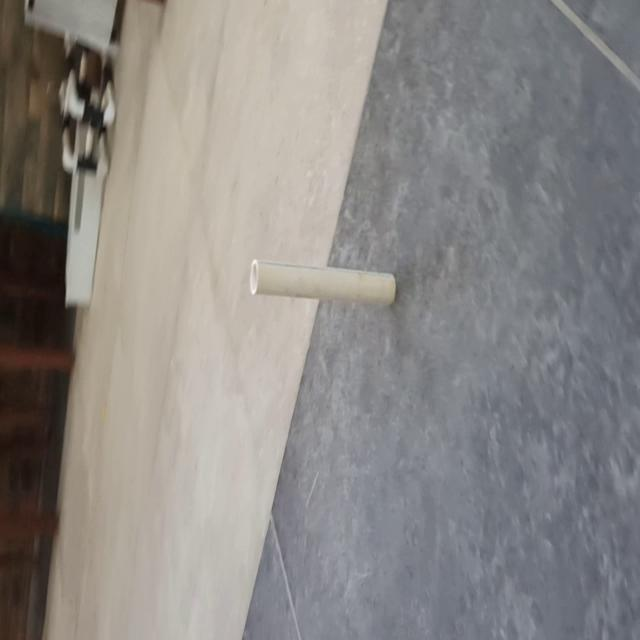Cube: (249, 256, 397, 308)
